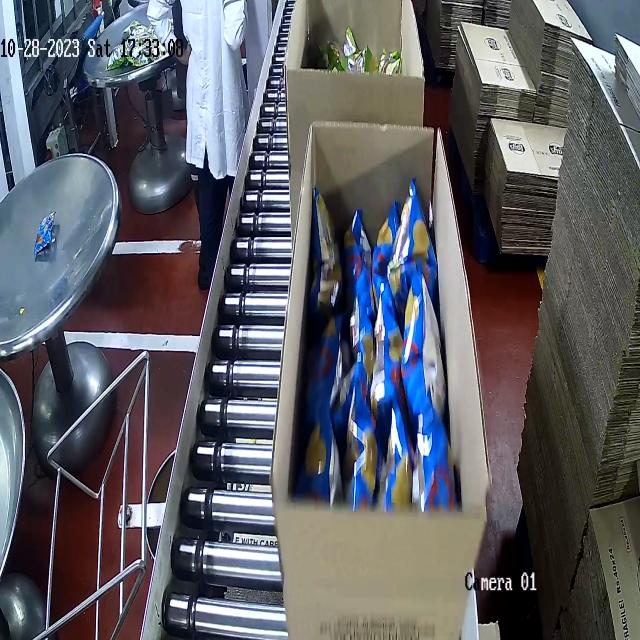PAPRIKA: (298, 170, 458, 512)
